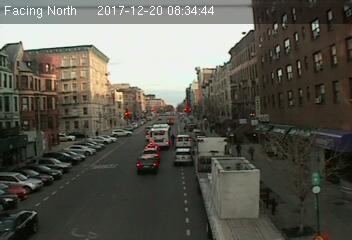bus: (148, 124, 170, 148)
car: (136, 155, 158, 174), (173, 147, 194, 165)
truck: (195, 135, 288, 240), (175, 134, 192, 149)
